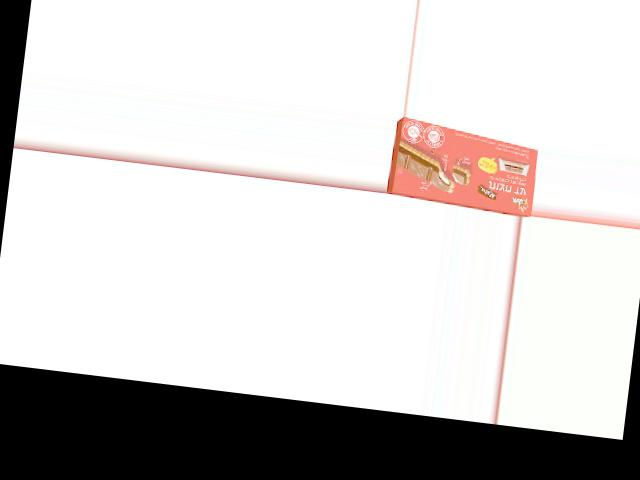chocolate: (388, 124, 541, 211)
